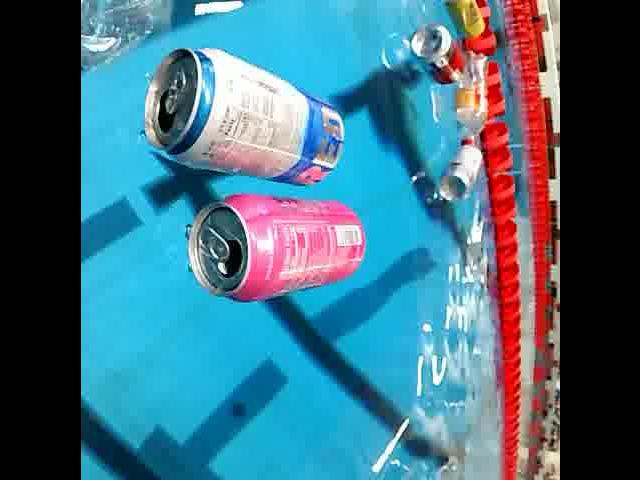Bottle: (80, 0, 250, 78), (454, 48, 489, 153)
Can: (138, 39, 346, 187), (180, 182, 377, 306), (406, 12, 466, 90), (436, 136, 486, 208), (440, 0, 486, 40)
